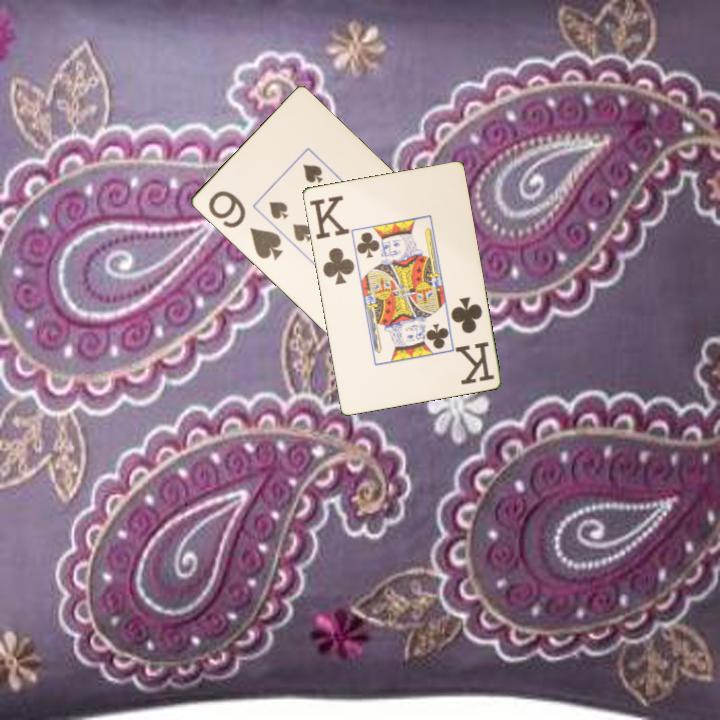9s: (204, 187, 286, 264)
Kc: (306, 191, 357, 287), (447, 293, 497, 387)
